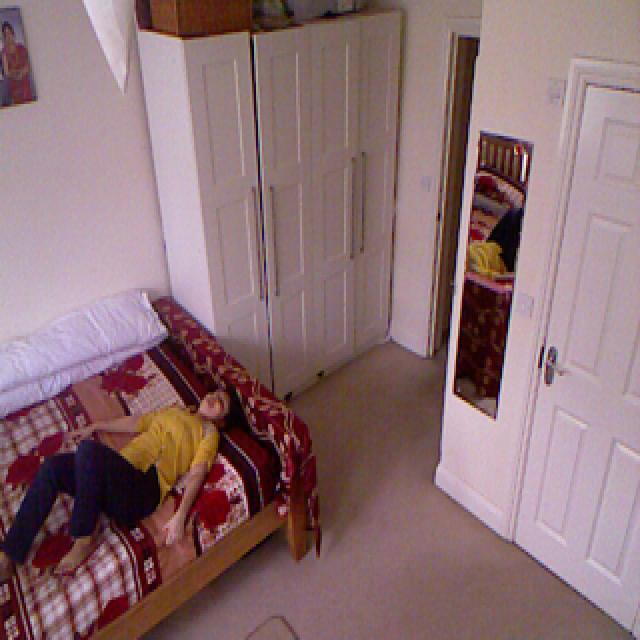lying: (0, 382, 243, 587)
